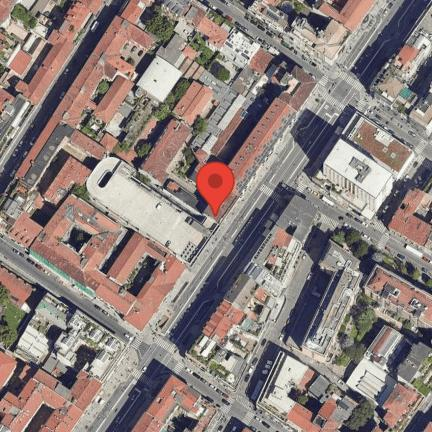area_open: (85, 157, 215, 268), (283, 270, 329, 349), (313, 65, 369, 118), (125, 335, 184, 383), (119, 39, 154, 73), (174, 17, 196, 44)
built: (186, 196, 321, 390), (14, 16, 155, 191), (30, 193, 189, 332), (187, 47, 283, 173), (230, 61, 318, 197), (313, 110, 414, 218), (15, 293, 129, 382), (15, 1, 105, 102), (347, 326, 431, 432), (160, 0, 276, 76), (370, 10, 432, 137), (300, 240, 363, 362), (0, 365, 103, 432), (249, 0, 353, 66), (132, 375, 224, 432), (364, 265, 432, 336), (209, 92, 269, 163), (257, 350, 307, 422), (138, 118, 192, 184), (388, 187, 432, 256), (0, 180, 42, 251), (69, 129, 141, 166), (0, 89, 36, 161), (43, 155, 92, 204), (136, 55, 183, 102), (92, 74, 134, 124), (317, 0, 376, 32), (172, 81, 213, 126), (283, 401, 341, 432), (299, 368, 345, 403), (0, 263, 34, 307), (8, 34, 44, 74), (158, 35, 187, 65), (0, 350, 18, 395), (123, 1, 150, 23)
vegetation_high: (331, 230, 432, 292), (327, 299, 382, 374), (188, 33, 245, 86), (154, 79, 192, 119), (142, 8, 175, 40), (343, 401, 376, 431), (12, 6, 39, 28), (71, 187, 91, 203), (291, 392, 311, 407), (97, 82, 110, 94)
vegetation_low: (104, 85, 171, 156), (0, 295, 31, 348), (74, 107, 107, 141), (174, 147, 198, 181)
